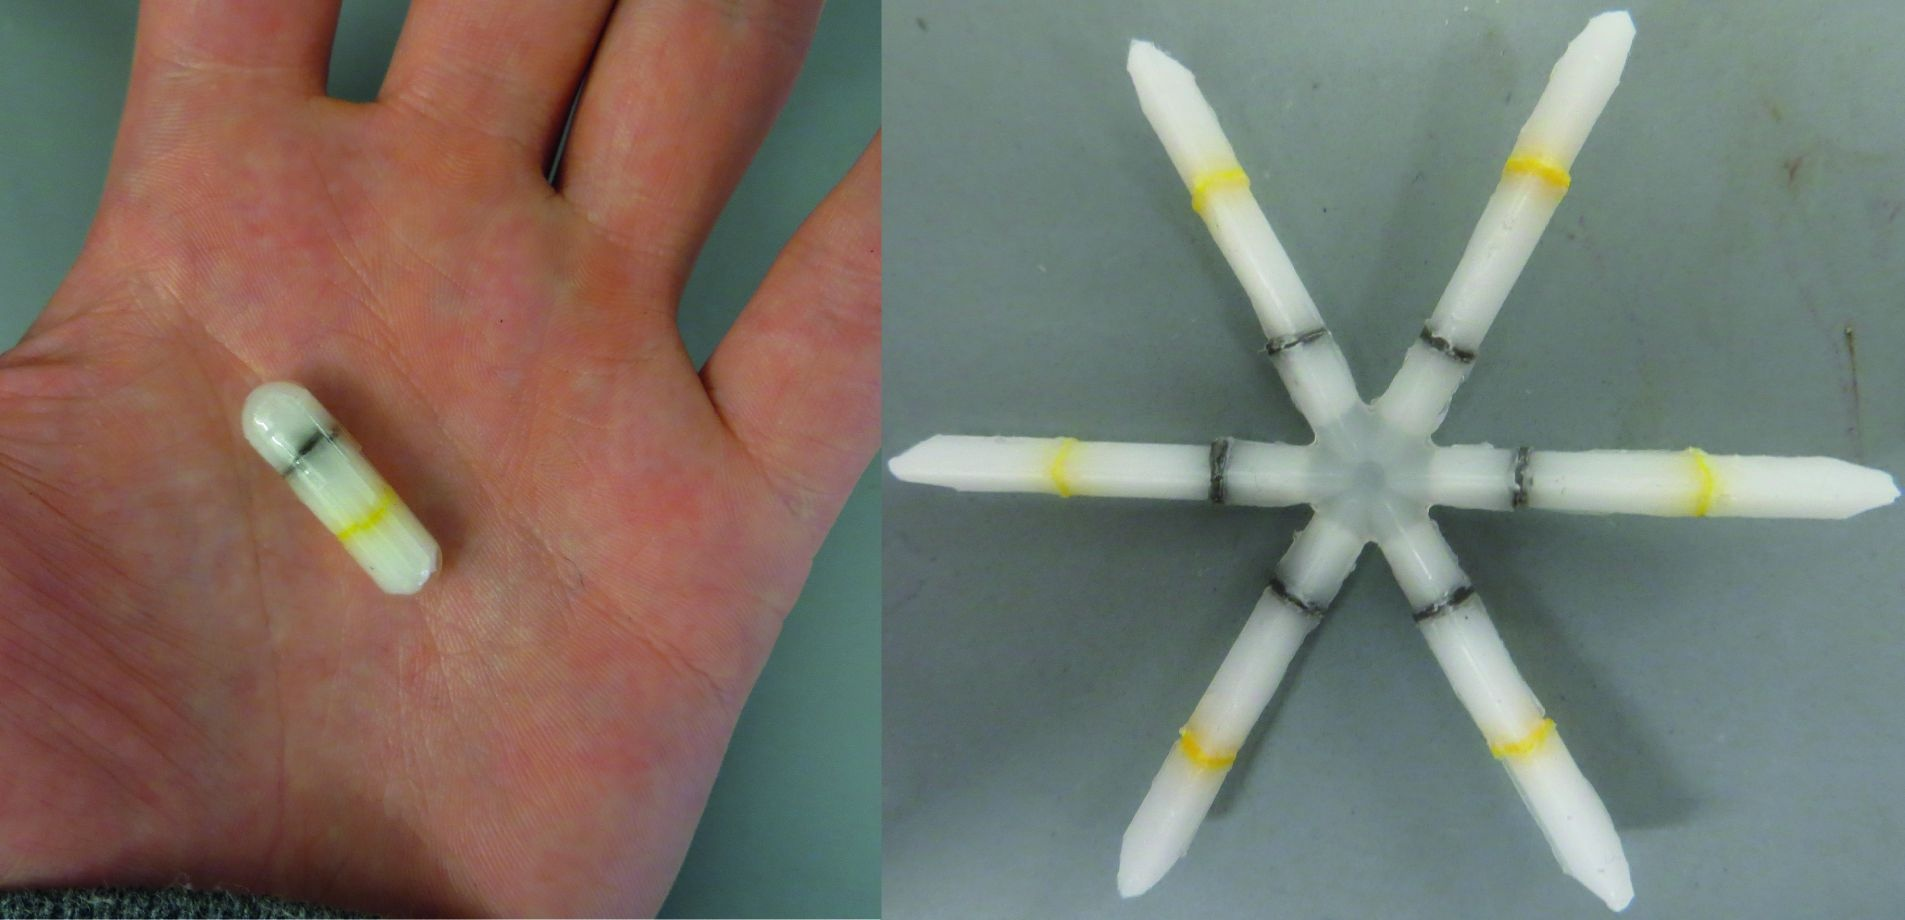pills: (238, 366, 436, 593)
